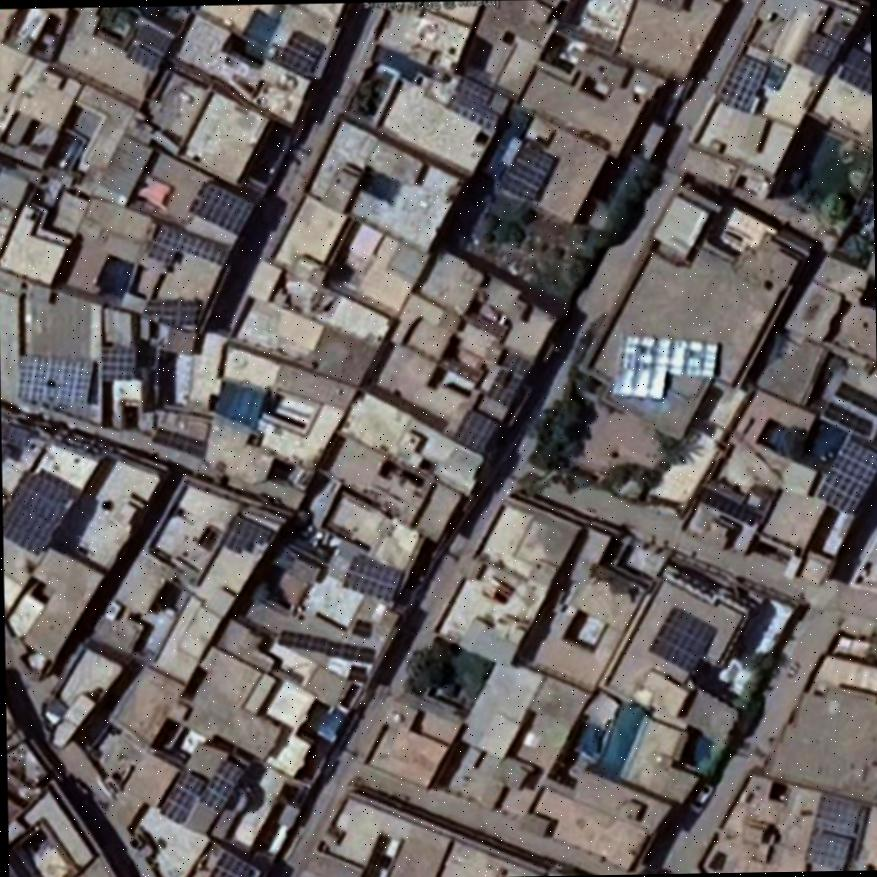Solarpanel: (3, 471, 70, 555), (814, 439, 877, 516), (144, 223, 227, 280), (650, 604, 716, 669), (805, 794, 861, 870), (18, 356, 94, 401), (277, 630, 376, 664), (499, 144, 557, 199), (188, 184, 250, 233), (719, 52, 768, 114), (805, 394, 873, 437), (341, 556, 402, 600), (223, 512, 272, 562), (160, 771, 205, 824), (696, 488, 756, 526), (275, 28, 325, 72), (199, 760, 241, 811), (455, 411, 497, 454), (150, 428, 207, 458), (838, 47, 871, 98), (834, 381, 876, 414), (143, 298, 198, 323), (208, 852, 251, 877), (101, 351, 136, 380)
